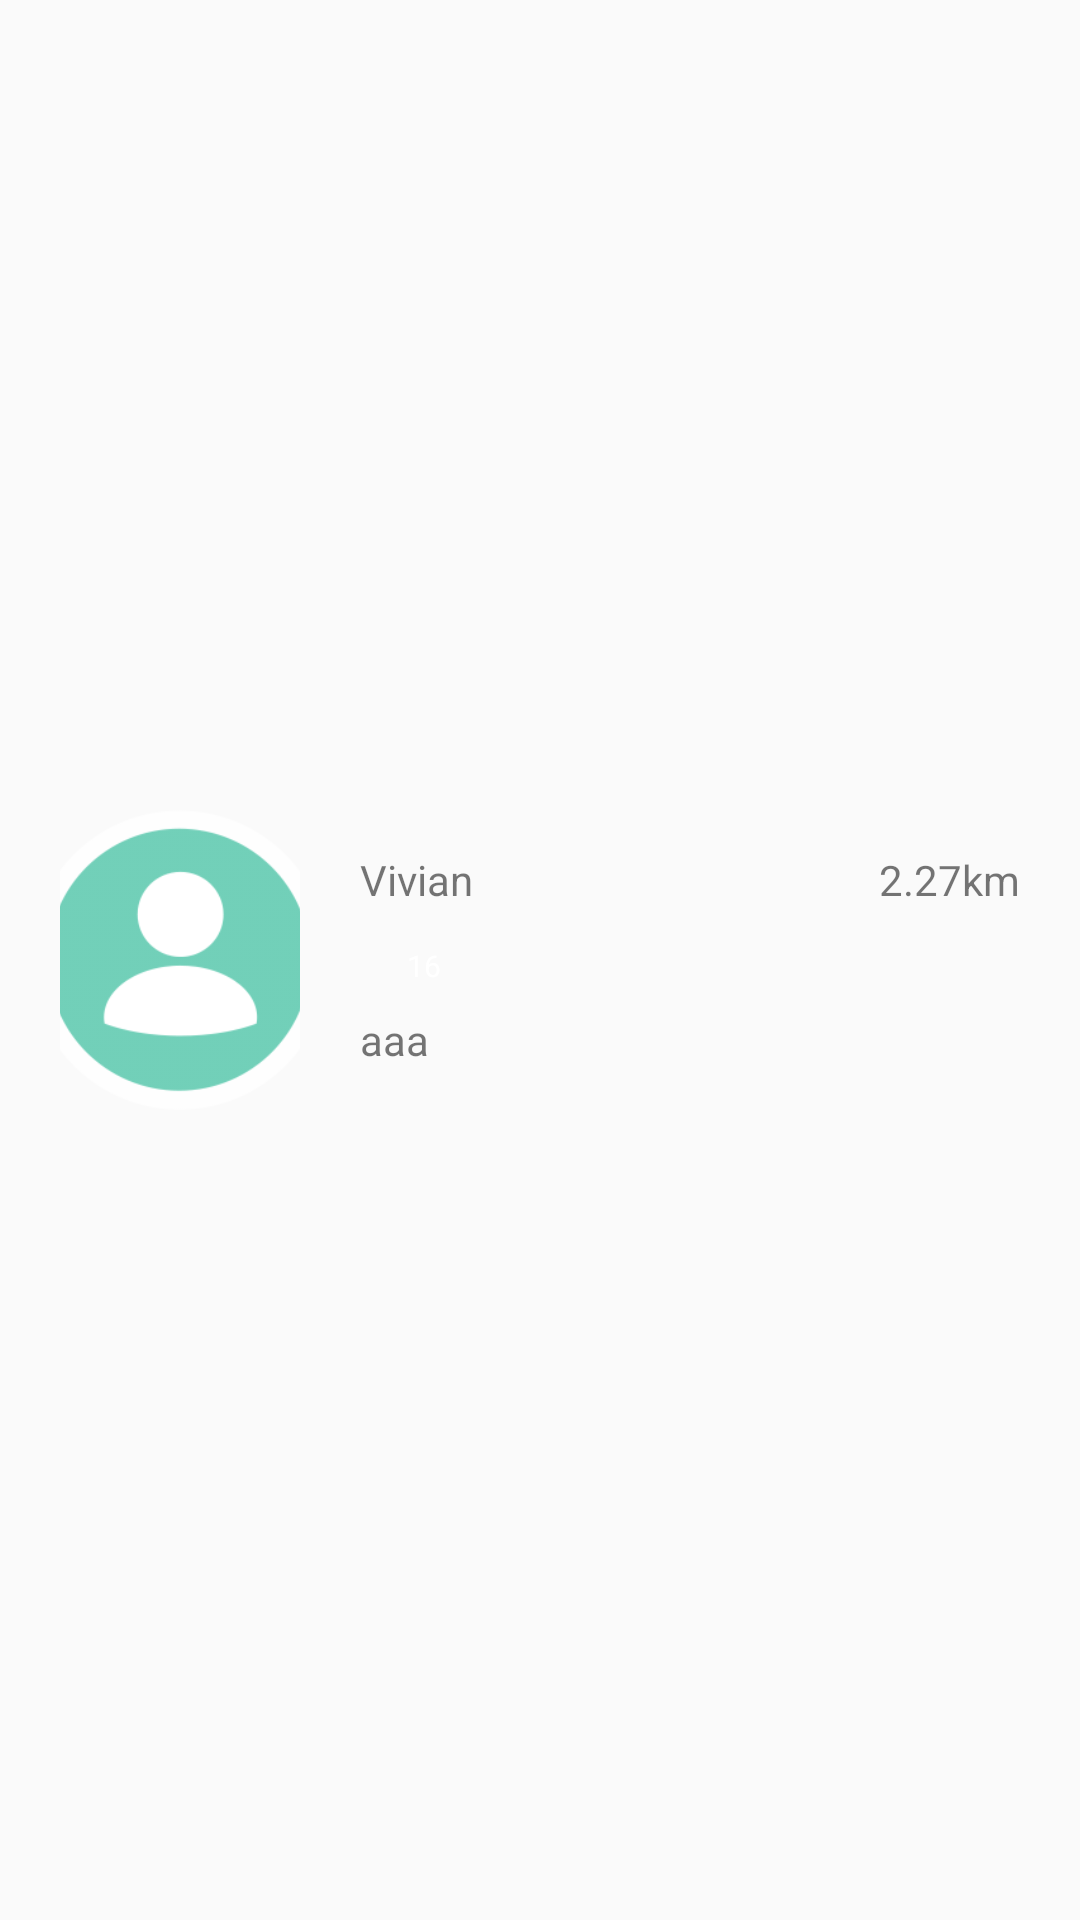

Icon bounding boxes for this 1080 × 1920 phone screenshot, format (x1, y1, x2, y2):
head: (60, 828, 300, 1091)
